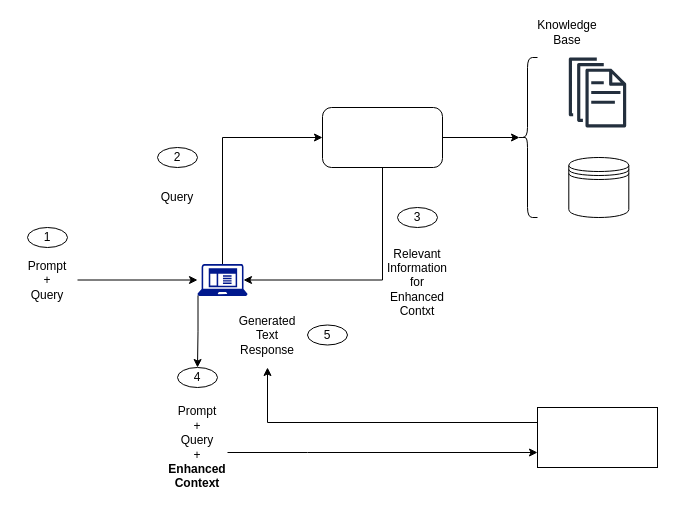
Some shapes in this 675 by 514 pixel diagram are drawn without their labels. Each missing label, with the box of its shape:
LLM: (536, 406, 658, 468)
Search Relevant Information: (322, 106, 442, 168)
